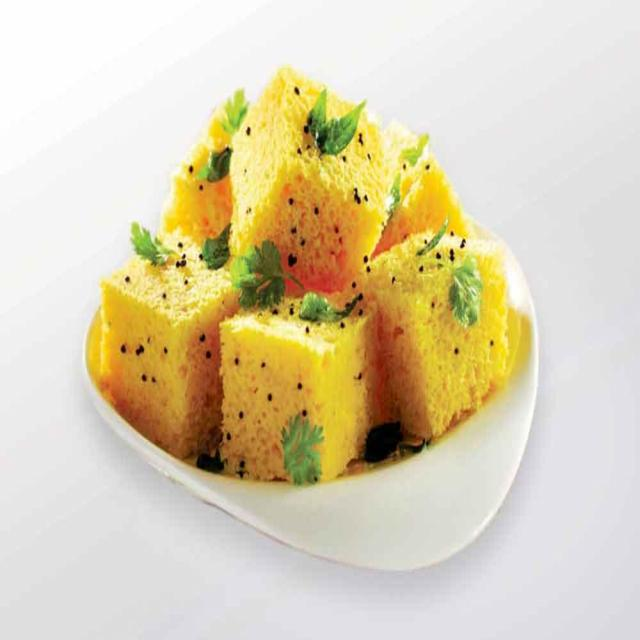dhokla: (100, 68, 516, 478)
